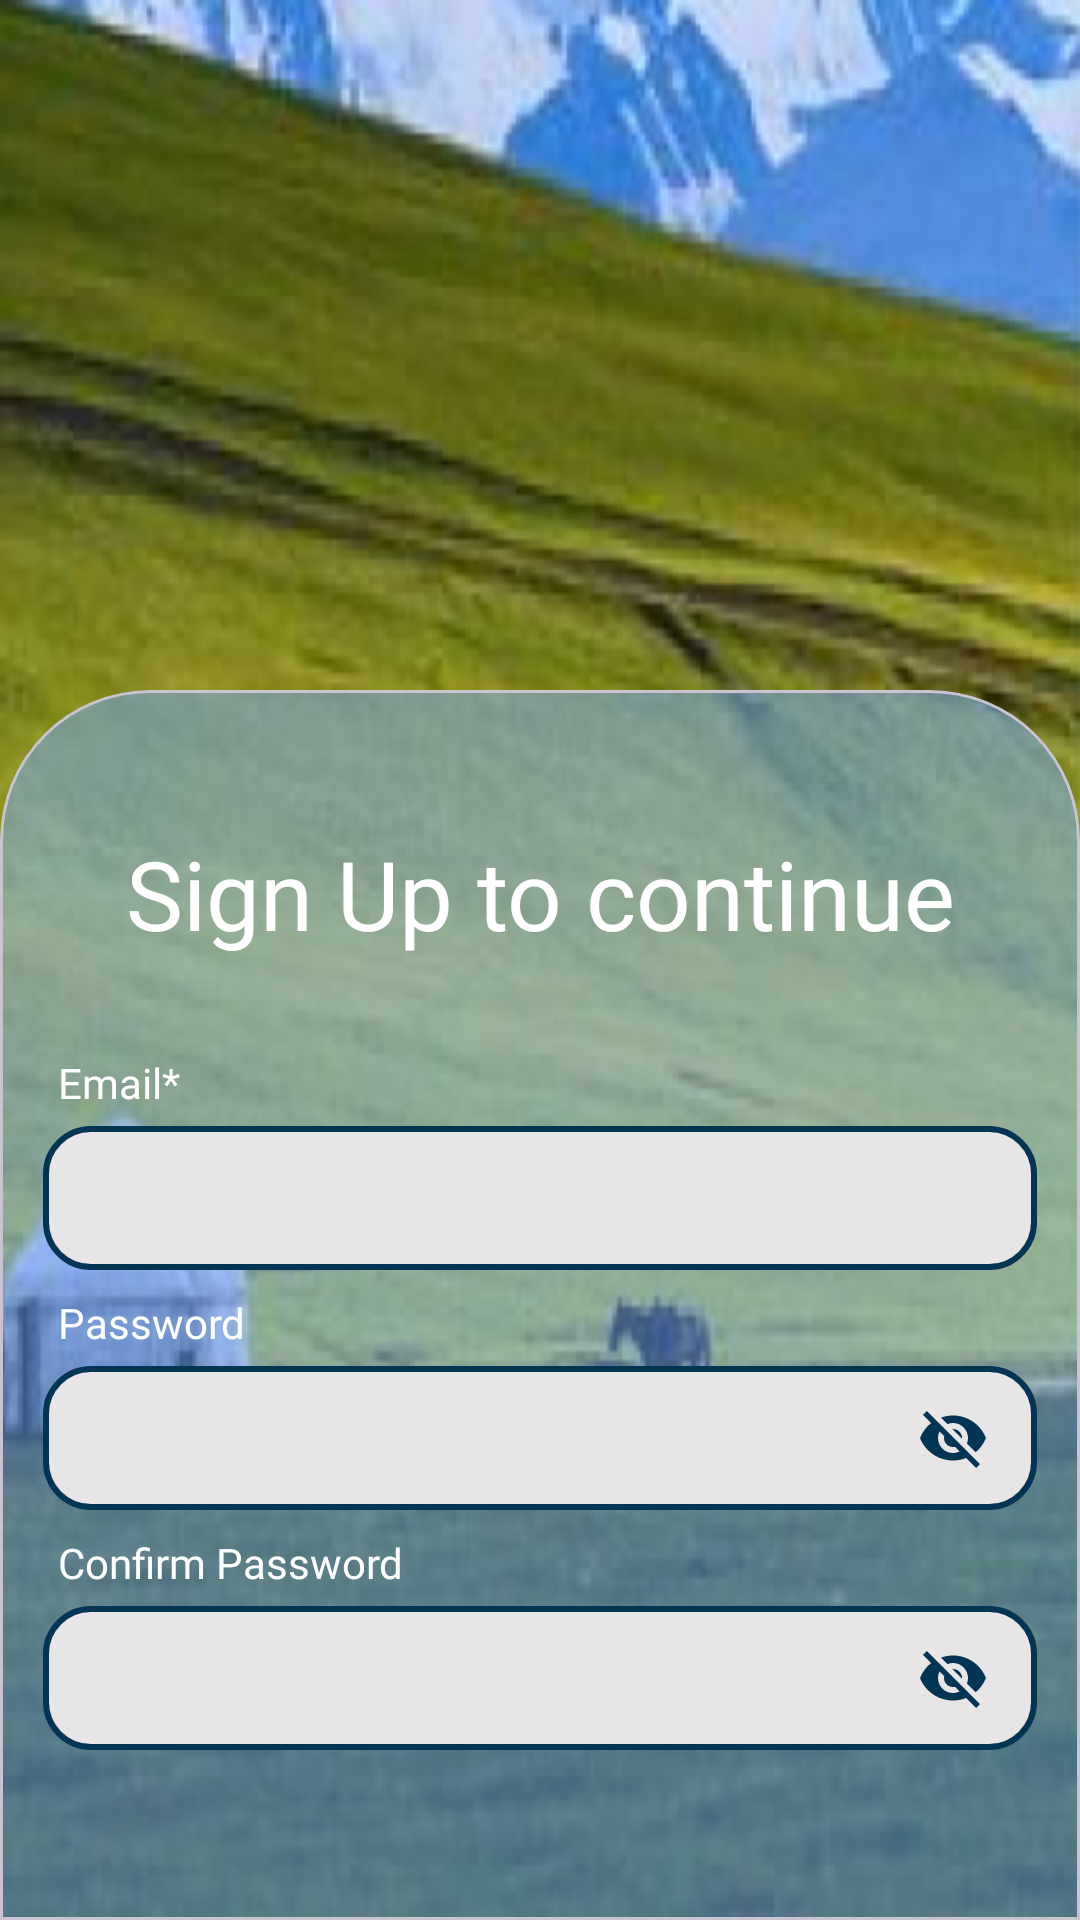

Point at icon controls on the screen. Image size 1080w x 1920h, points as (x=x, y=y).
visibility off: (x=953, y=1439), (x=953, y=1679)
